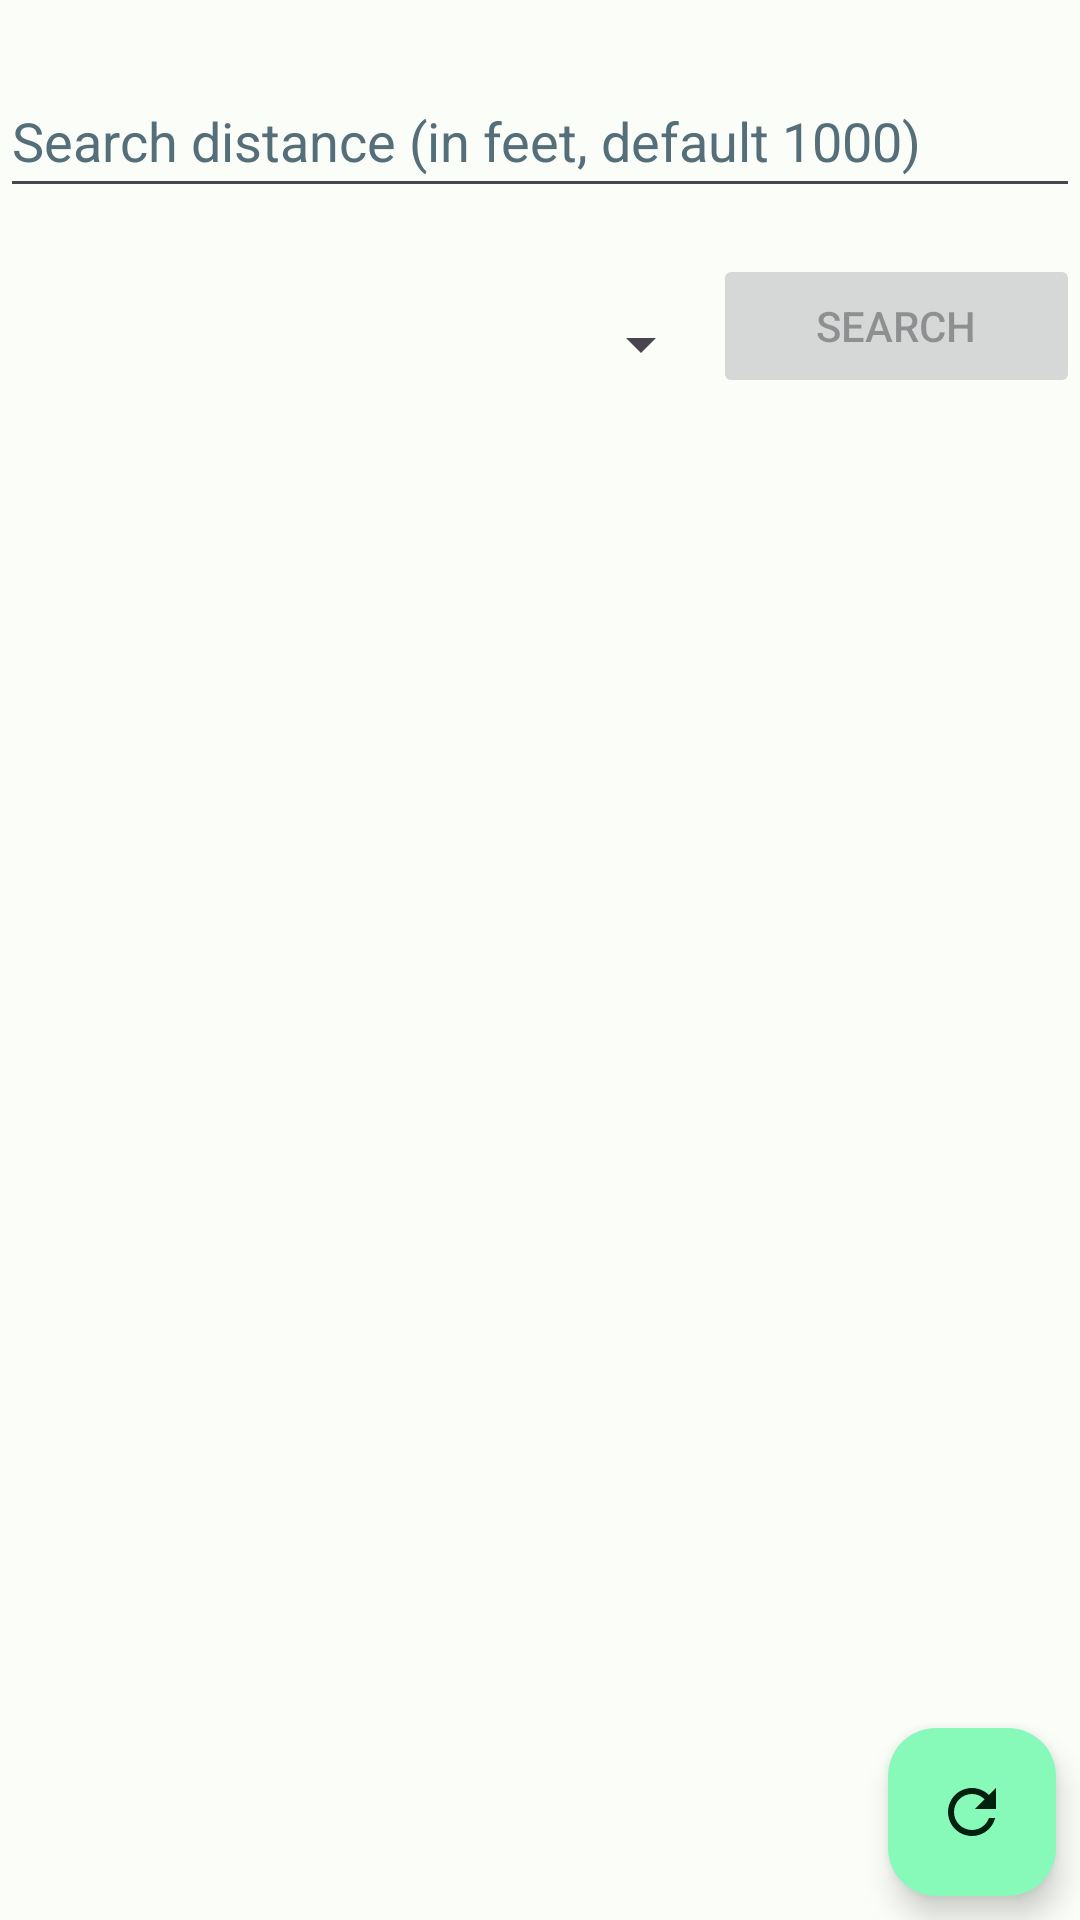

Screen size 1080px×1920px. Icon name, then its center in pixels as point (x, y):
reset: point (972, 1812)
